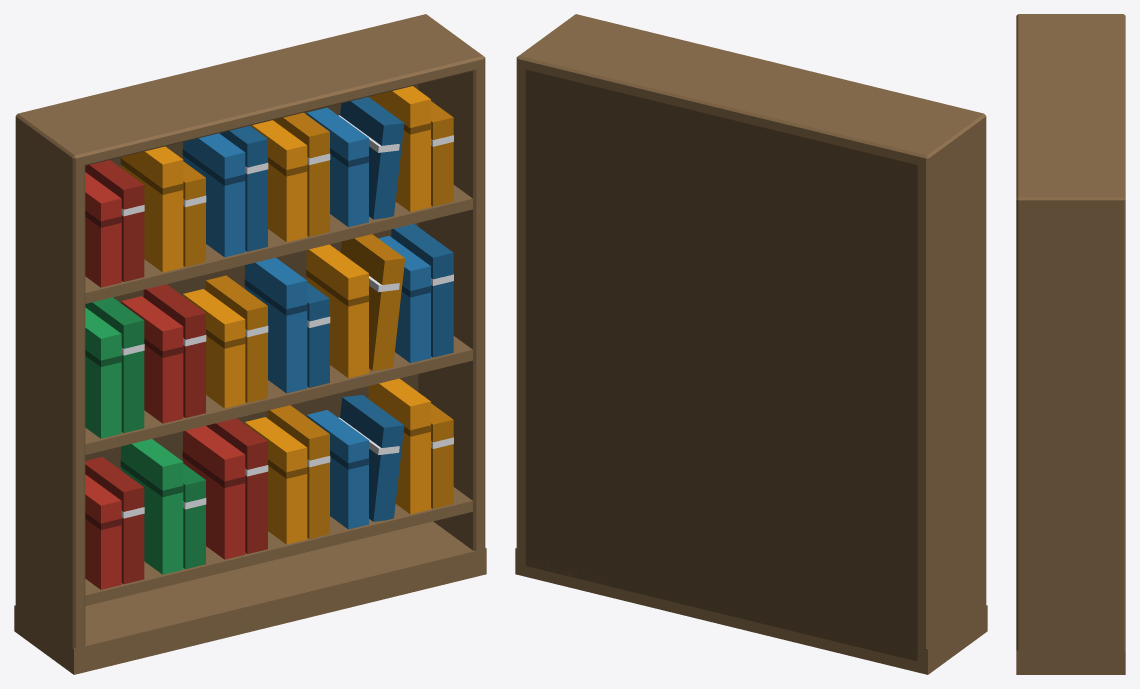
Rendered from shelf.glb.
3 views of the same model, side by side, from view 1: azimuth 30°, elevation 25°; view 2: azimuth 150°, elevation 25°; view 3: azimuth 270°, elevation 25° (orthographic). The views are drawn at different scales.
Parts seen in each view (by area): view 1: shelf-m; view 2: shelf-m; view 3: shelf-m.
Boxes of the visible parts, box(x1,y1,x2,y2) form: shelf-m: box(14, 14, 486, 674); shelf-m: box(515, 14, 987, 674); shelf-m: box(1016, 14, 1125, 674).
Bounding box in the file's own units: 2 × 2.4 × 0.5.
